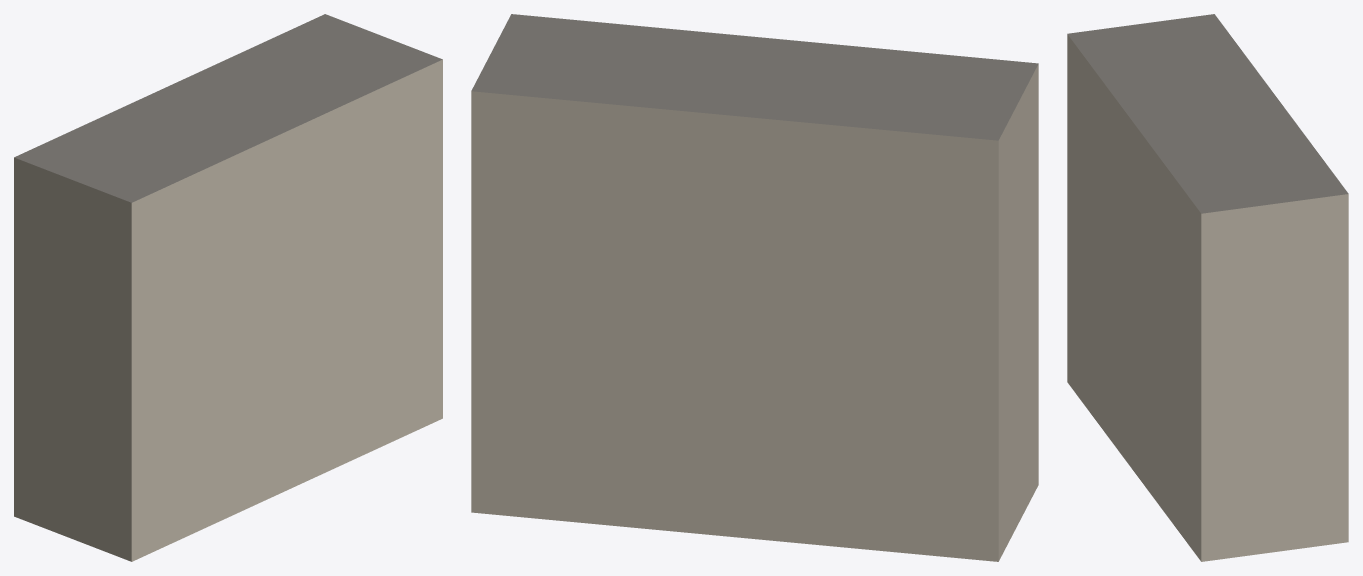
The picture shows the model from 3 angles, left to right: view 1: azimuth 30°, elevation 25°; view 2: azimuth 150°, elevation 25°; view 3: azimuth 270°, elevation 25°; orthographic projection. The views are drawn at different scales.
Parts seen in each view (by area): view 1: HP-w380339881; view 2: HP-w380339881; view 3: HP-w380339881.
Boxes of the visible parts, x1,y1,x2,y2 form: HP-w380339881: (14, 14, 442, 561); HP-w380339881: (471, 14, 1038, 561); HP-w380339881: (1067, 14, 1348, 561).
Size of the model in its own units: 22.14 by 18 by 13.19.
